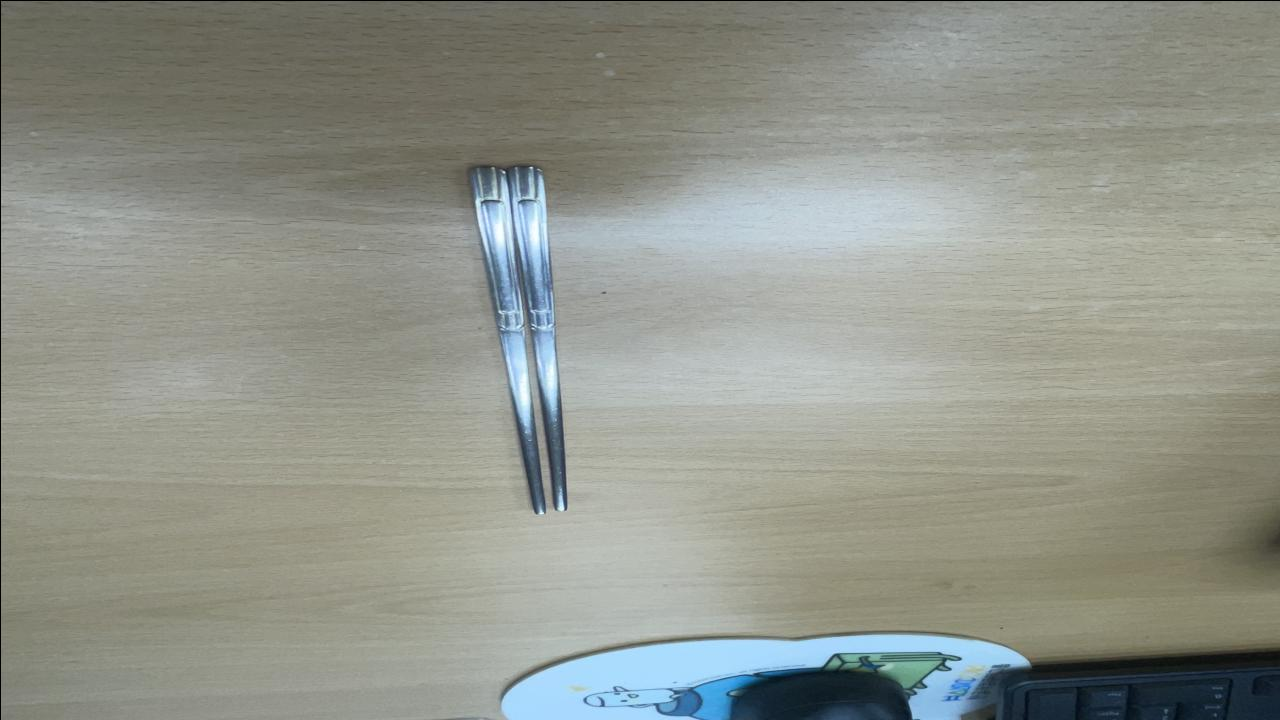chopstick: (464, 160, 574, 516)
